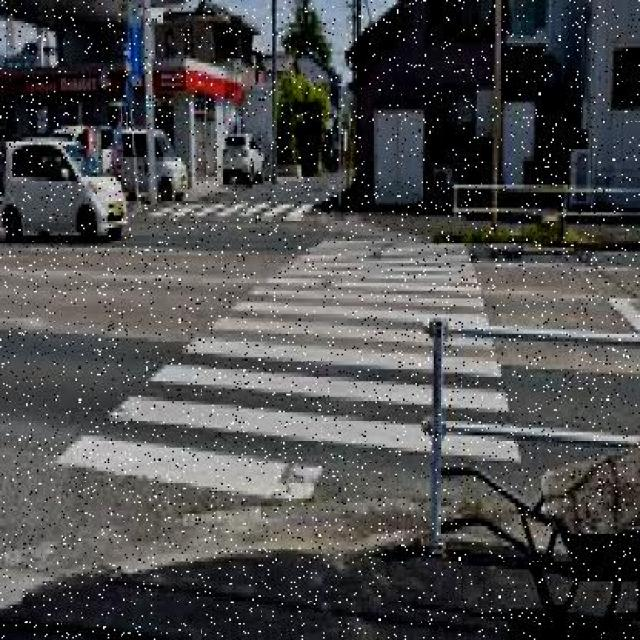intact_crosswalk: (62, 239, 522, 499), (151, 203, 312, 222)
